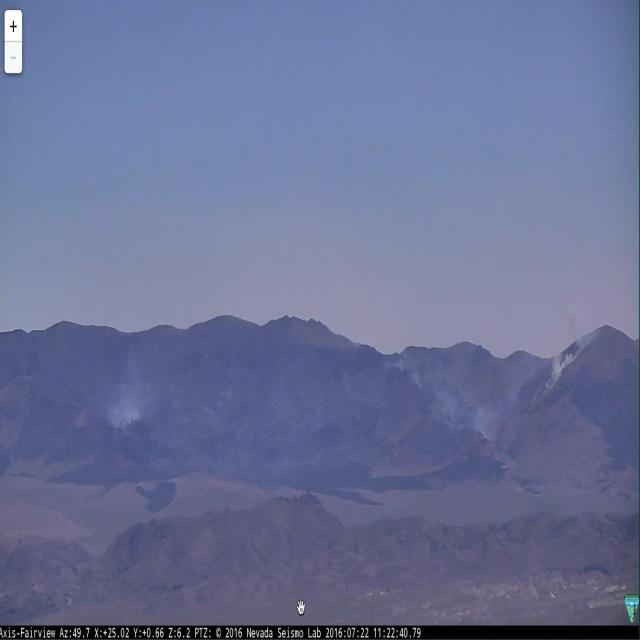smoke: (390, 361, 496, 452), (543, 307, 598, 397), (110, 356, 148, 429)
